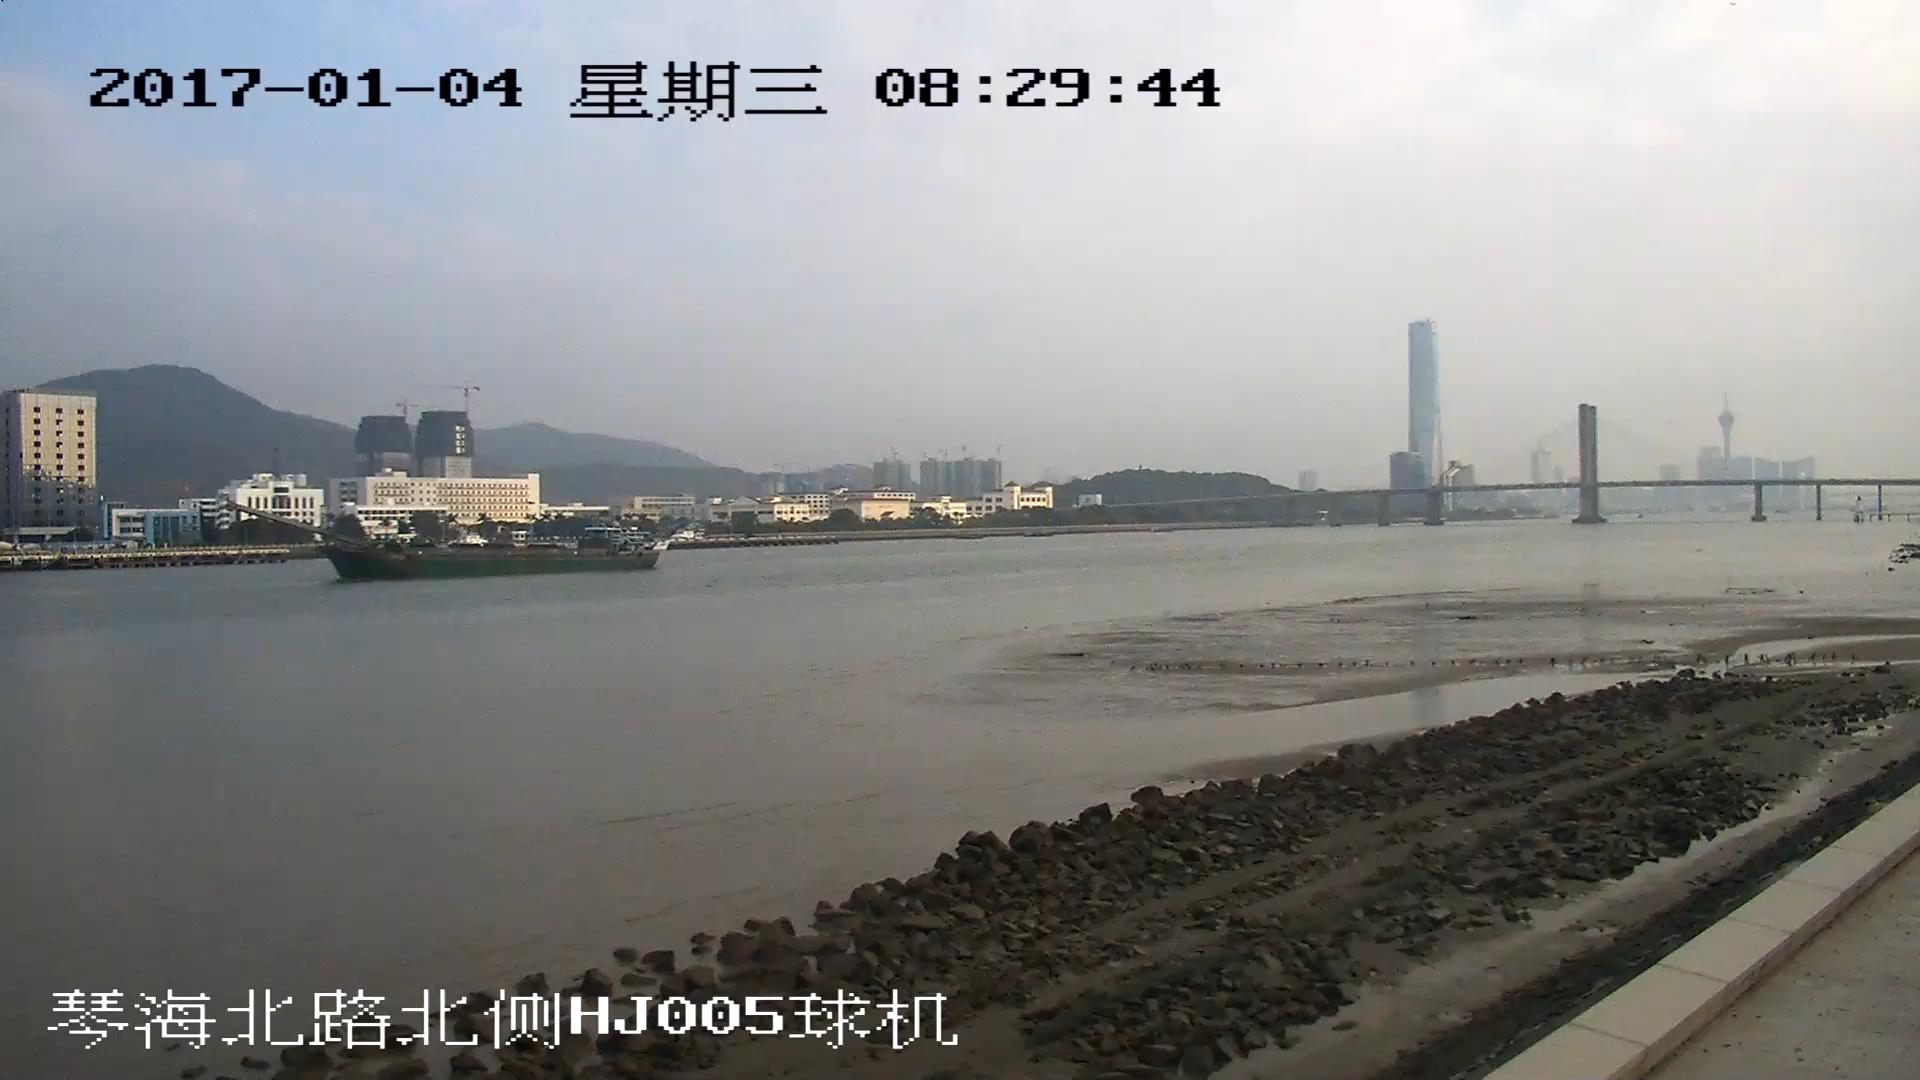bulk cargo carrier: (224, 503, 659, 572)
